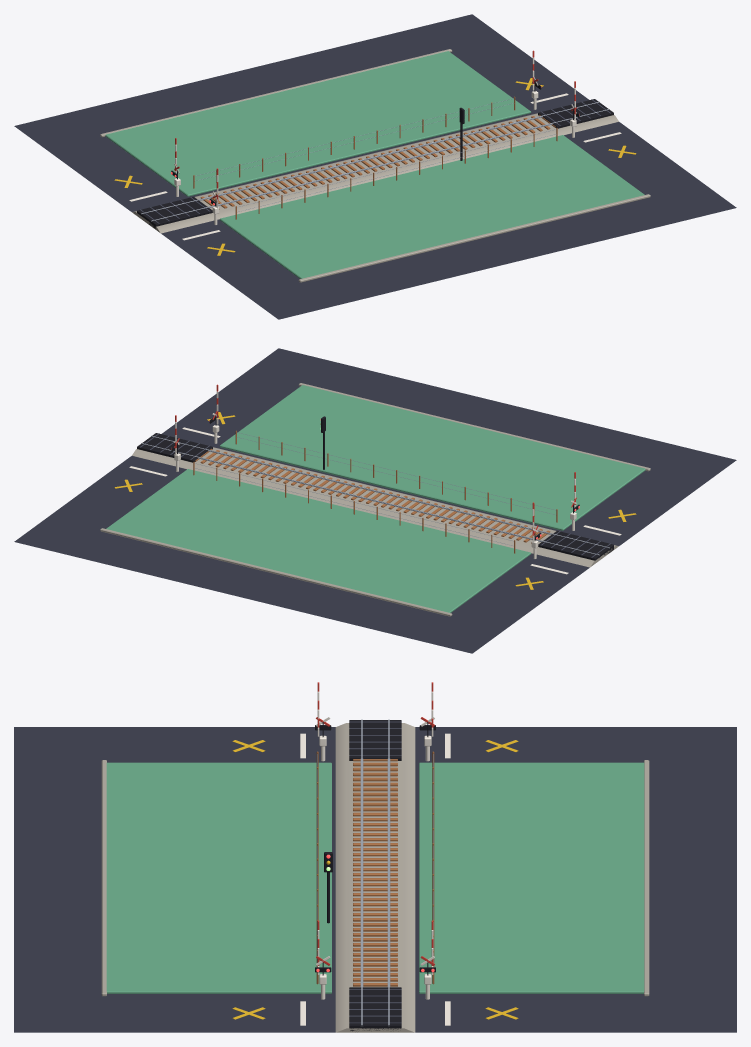
Rendered from tile_rail.glb.
3 renders of one model, top to bottom at view 1: azimuth 30°, elevation 25°; view 2: azimuth 150°, elevation 25°; view 3: azimuth 270°, elevation 25°, orthographic. The views are drawn at different scales.
Visible parts, largest first — view 1: tile_rail; view 2: tile_rail; view 3: tile_rail.
Boxes of the visible parts, x1,y1,x2,y2 form: tile_rail: (14,14,736,319); tile_rail: (14,348,736,653); tile_rail: (14,682,736,1032).
Size of the model in its own units: 40 by 4.78 by 40.
Materials: 1 (1 with a texture image).
